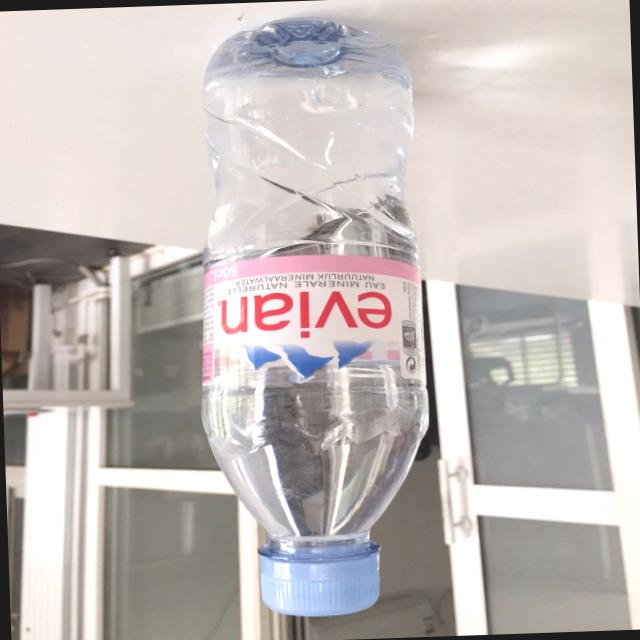bottle: (186, 14, 440, 624)
